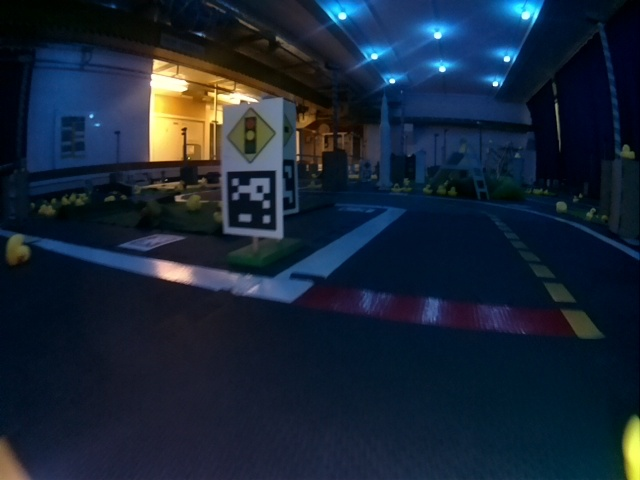Duckie: (6, 235, 32, 261), (187, 197, 200, 208), (448, 188, 457, 197), (438, 186, 446, 195), (423, 186, 432, 194), (557, 201, 564, 211), (47, 206, 53, 216), (621, 150, 630, 155), (393, 187, 400, 193)
QR code: (221, 169, 278, 238), (120, 233, 185, 252)
Signal sign: (227, 108, 274, 163)
